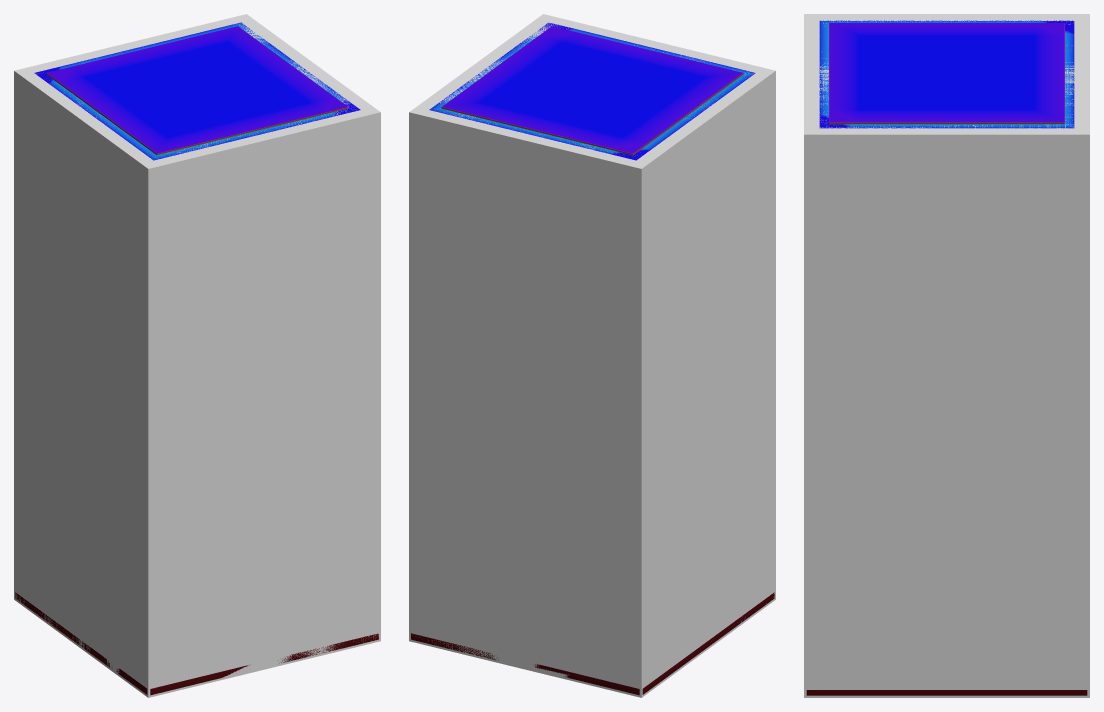
The model's file is prop_plinth.fbx.
3 renders of one model, left to right at view 1: azimuth 30°, elevation 25°; view 2: azimuth 150°, elevation 25°; view 3: azimuth 270°, elevation 25°, orthographic. The views are drawn at different scales.
Visible parts, largest first — view 1: COL_0, prop_plinth; view 2: COL_0, prop_plinth; view 3: COL_0, prop_plinth.
Part boxes in pixels (bbox=[...]): COL_0: bbox=[14, 14, 380, 697]; prop_plinth: bbox=[15, 22, 378, 695]; COL_0: bbox=[409, 14, 775, 697]; prop_plinth: bbox=[411, 22, 774, 695]; COL_0: bbox=[804, 14, 1089, 697]; prop_plinth: bbox=[806, 20, 1087, 695].
Bounding box in the file's own units: 0.46 × 1 × 0.46.
